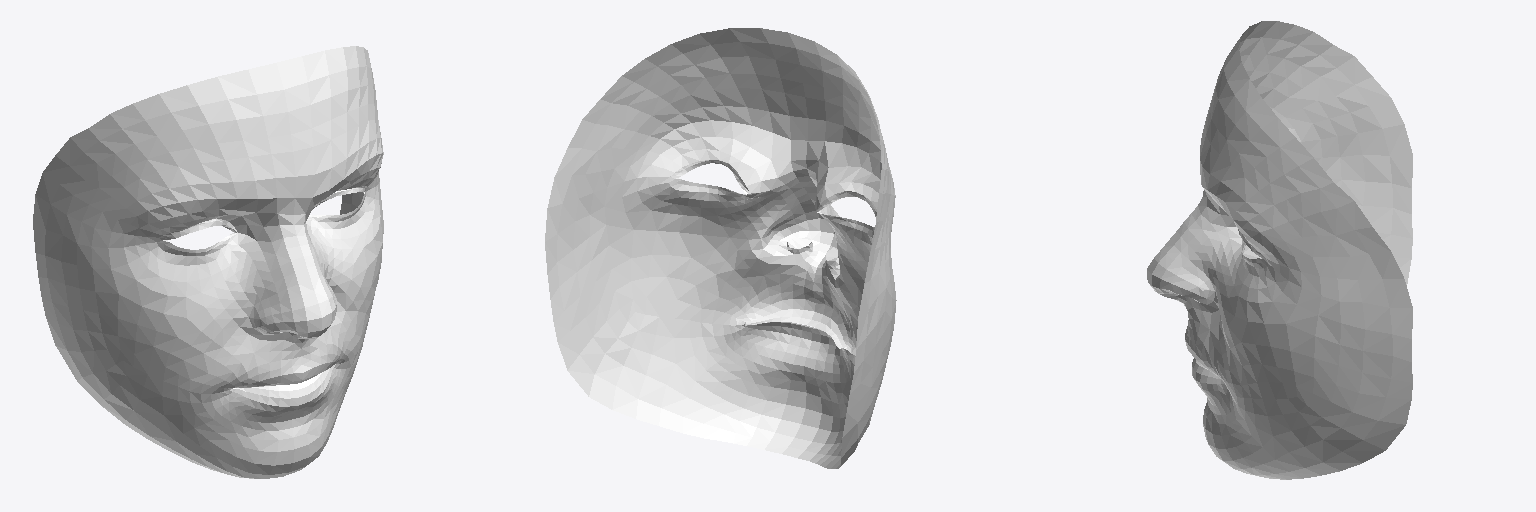
File: noseSneer_L.obj
3 renders of one model, left to right at view 1: azimuth 30°, elevation 25°; view 2: azimuth 150°, elevation 25°; view 3: azimuth 270°, elevation 25°, orthographic.
Visible parts, largest first — view 1: default; view 2: default; view 3: default.
Part boxes in pixels (x1,y1,x2,y2): default: (33, 46, 383, 478); default: (545, 28, 896, 468); default: (1147, 21, 1412, 479).
Bounding box in the file's own units: 0.1447 × 0.182 × 0.1054.